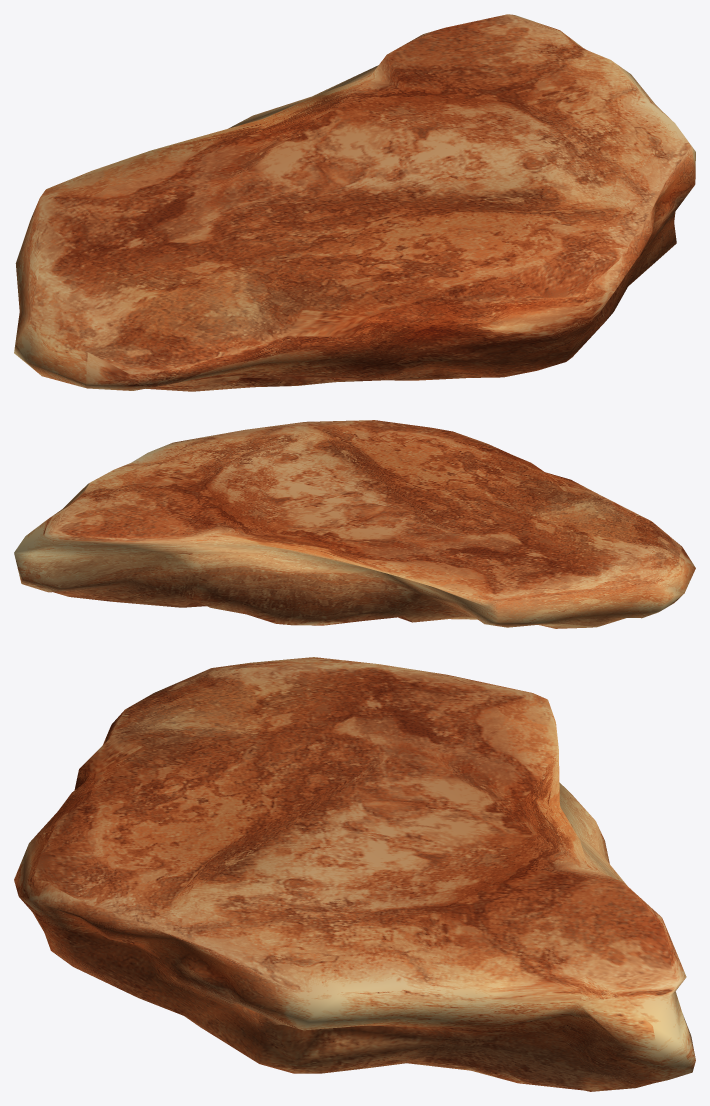
The model's file is roca.glb.
The picture shows the model from 3 angles, top to bottom: view 1: azimuth 30°, elevation 25°; view 2: azimuth 150°, elevation 25°; view 3: azimuth 270°, elevation 25°; orthographic projection. The views are drawn at different scales.
Visible parts, largest first — view 1: Rock.001; view 2: Rock.001; view 3: Rock.001.
Boxes of the visible parts, box(x1,y1,x2,y2) form: Rock.001: box(14, 14, 695, 391); Rock.001: box(14, 420, 695, 628); Rock.001: box(14, 657, 695, 1091).
Size of the model in its own units: 109 by 18.52 by 80.78.
1 material, 1 textured.
